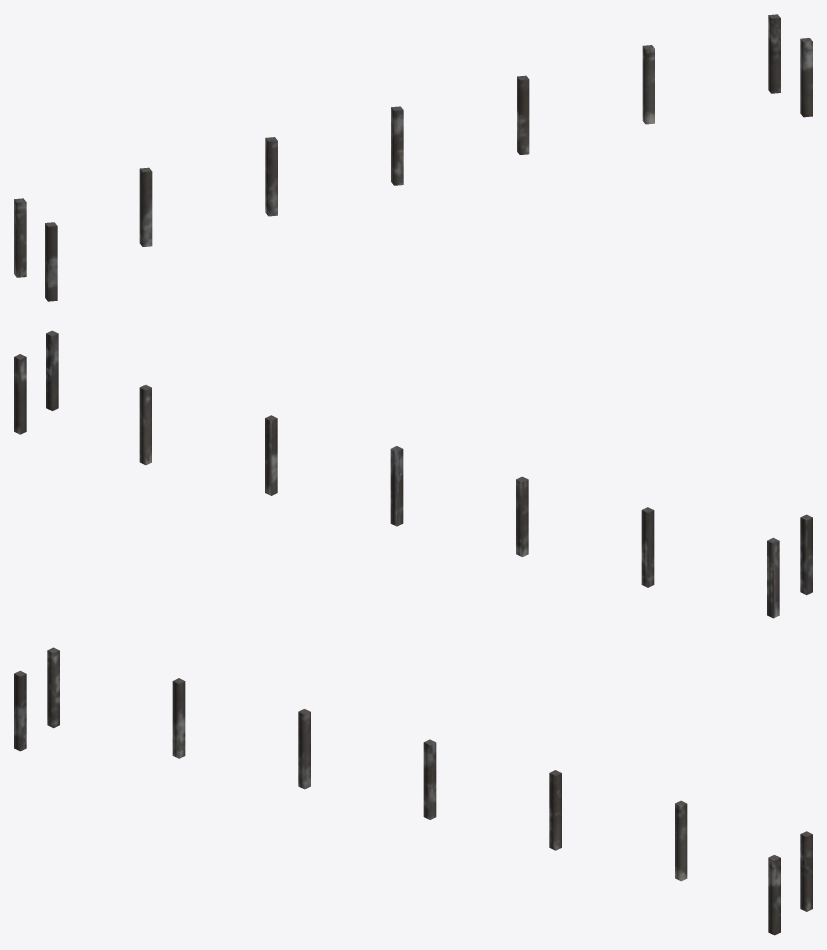
The model's file is BalconyGrillBars.FBX.
3 renders of one model, top to bottom at view 1: azimuth 30°, elevation 25°; view 2: azimuth 150°, elevation 25°; view 3: azimuth 330°, elevation 25°, orthographic.
Parts seen in each view (by area): view 1: BalconyGrillBars; view 2: BalconyGrillBars; view 3: BalconyGrillBars.
Part boxes in pixels (x1,y1,x2,y2): BalconyGrillBars: [14, 14, 812, 301]; BalconyGrillBars: [14, 330, 812, 618]; BalconyGrillBars: [14, 647, 812, 935].
Bounding box in the file's own units: 1200 × 112 × 104.
